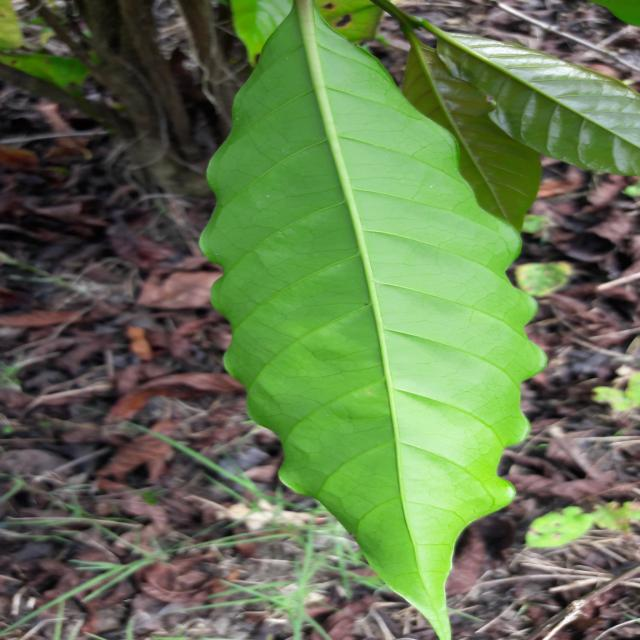Sanas: (198, 0, 546, 640)
